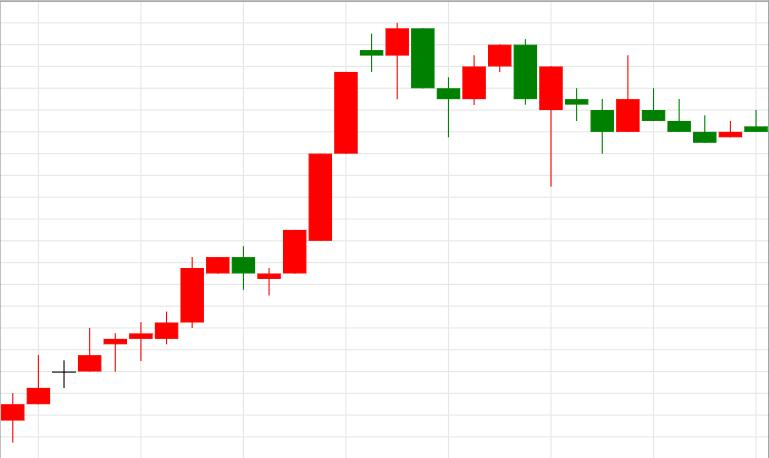hanging_man_fall: (257, 22, 409, 295)
